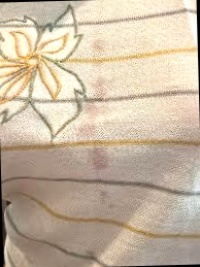wine: (74, 106, 109, 141), (84, 65, 113, 96), (84, 146, 110, 173), (90, 185, 114, 210), (84, 36, 106, 60)
